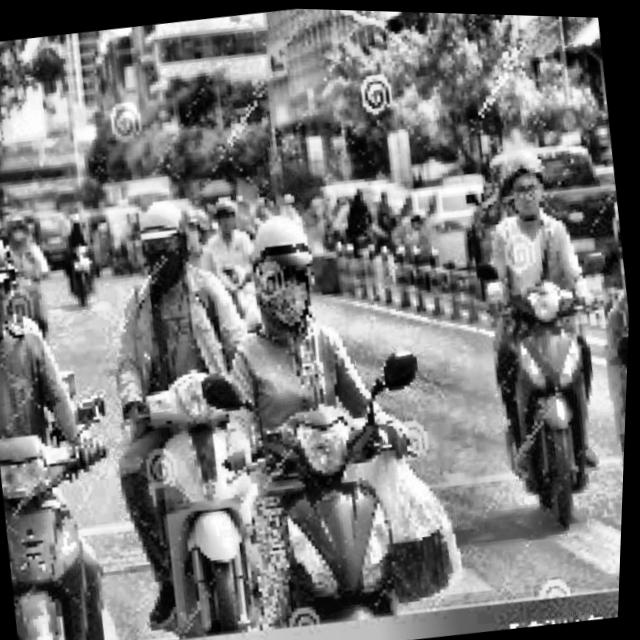motorcycle: (195, 335, 462, 637), (458, 236, 633, 535), (112, 360, 275, 640), (0, 388, 150, 640), (56, 233, 111, 319)
